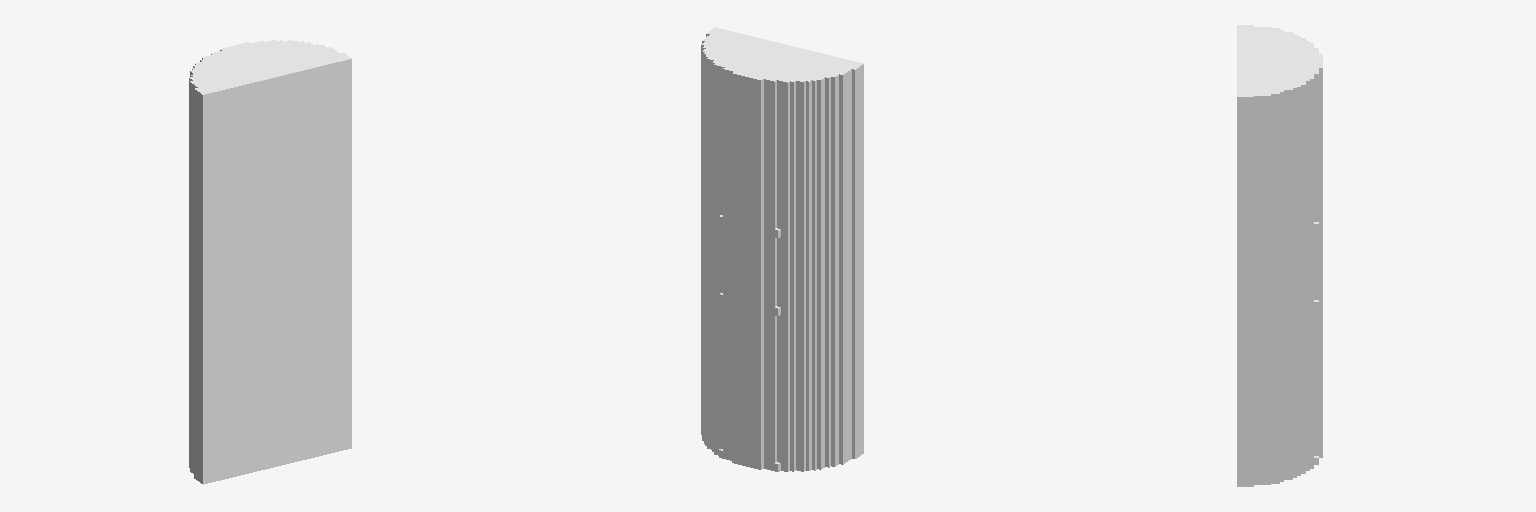
File: pillar-half.obj
The picture shows the model from 3 angles: view 1: azimuth 30°, elevation 25°; view 2: azimuth 150°, elevation 25°; view 3: azimuth 270°, elevation 25°; orthographic projection.
Parts seen in each view (by area): view 1: object 1; view 2: object 1; view 3: object 1.
Boxes of the visible parts, box(x1,y1,x2,y2) form: object 1: box(189, 40, 351, 484); object 1: box(701, 27, 863, 471); object 1: box(1237, 25, 1322, 486).
Size of the model in its own units: 4 by 10 by 2.